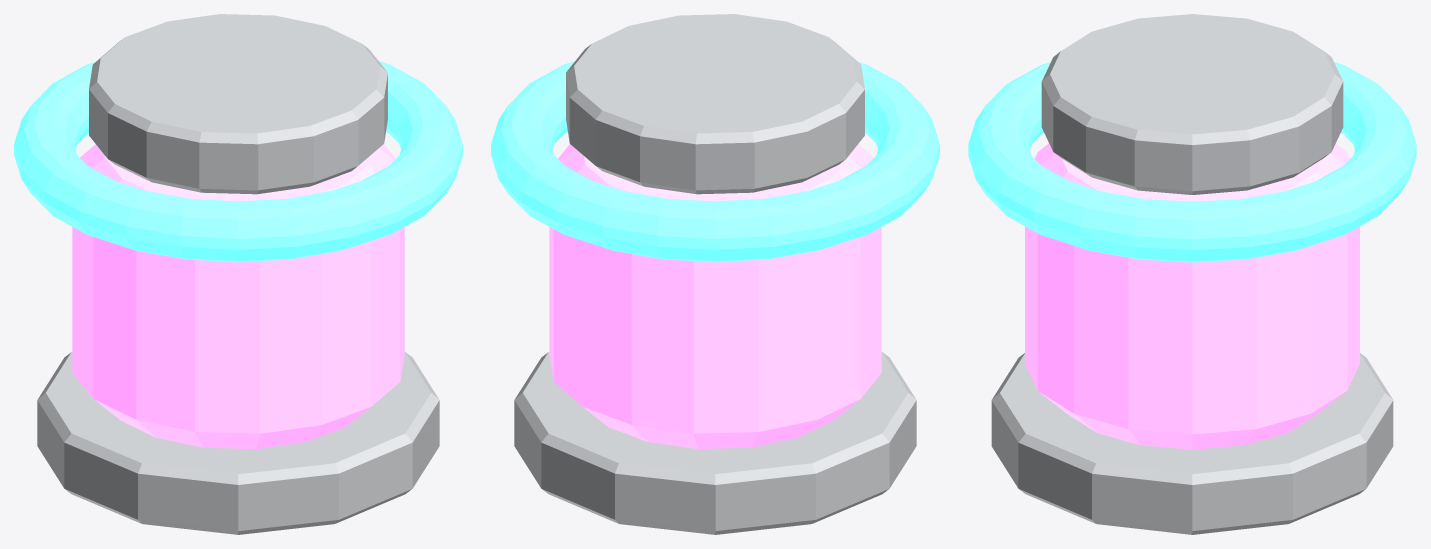
The picture shows the model from 3 angles, left to right: view 1: azimuth 30°, elevation 25°; view 2: azimuth 150°, elevation 25°; view 3: azimuth 270°, elevation 25°; orthographic projection.
Visible parts, largest first — view 1: PostVisual; view 2: PostVisual; view 3: PostVisual.
Boxes of the visible parts, <box> form: PostVisual: <box>14,14,462,534</box>; PostVisual: <box>491,14,939,534</box>; PostVisual: <box>968,14,1416,534</box>.
Bounding box in the file's own units: 0.1339 × 0.125 × 0.1339.
